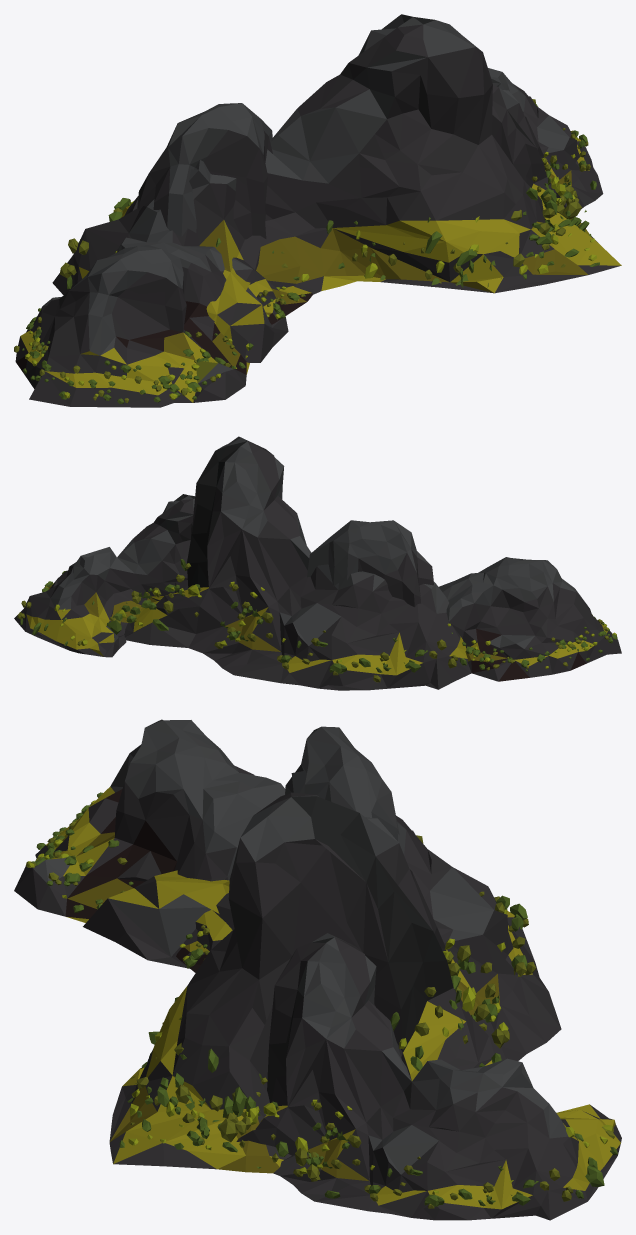
The model's file is New Tutorial Island 2.fbx.
3 views of the same model, one above another, from view 1: azimuth 30°, elevation 25°; view 2: azimuth 150°, elevation 25°; view 3: azimuth 270°, elevation 25° (orthographic). The views are drawn at different scales.
Visible parts, largest first — view 1: New Rock 2; view 2: New Rock 2; view 3: New Rock 2.
Boxes of the visible parts, x1=… form: New Rock 2: x1=14, y1=14, x2=621, y2=407; New Rock 2: x1=14, y1=436, x2=621, y2=690; New Rock 2: x1=14, y1=719, x2=621, y2=1220.
Bounding box in the file's own units: 7603 × 2437 × 4629.
